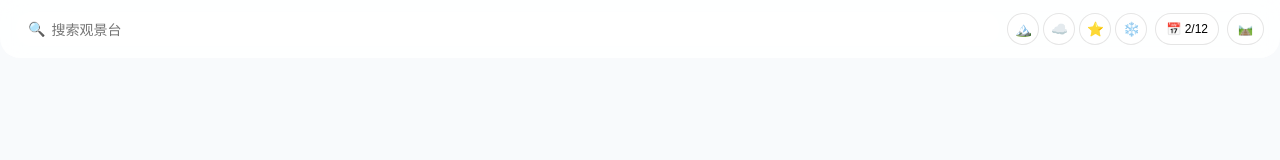
Test: MapTopBar › shows search results when query matches viewpoints
The width and height of the screenshot is (1280, 160).
Step 1. Type "牛背" into the field with placeholder "搜索观景台" → (519, 29), box [52, 21, 987, 38]
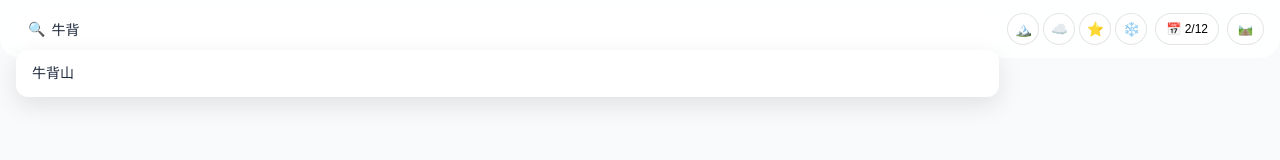
Now the number of list items is 1, box [32, 64, 74, 81]
Now the list item "牛背山" is shown, box [32, 64, 74, 81]
